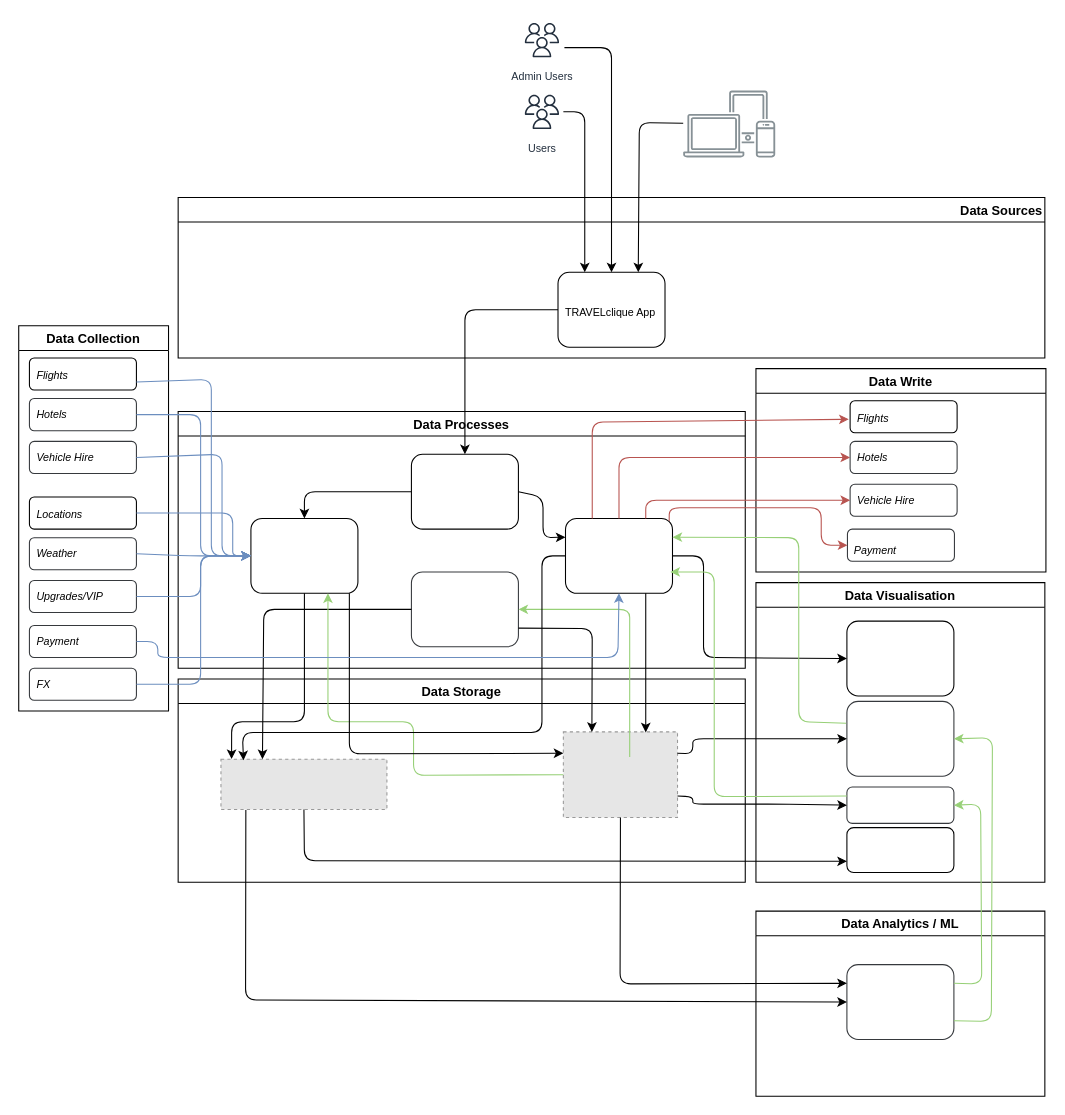
Image size: 1065x1115. Some labels were removed from this diagram. Grey dashed boxes stand in for pictures. The centre of each missing label's shape, as x and y in pixels:
"Aggregation ETL (AKS/Node.js/AF)" goes at point 304,555.
"Availability ETL (AKS/Node.js/AF)" goes at point 464,609.
"History Dashboards" goes at point 900,850.
"Message Queue (azure queue storage)" goes at point 464,491.
"Offers & Trends" goes at point 900,804.
"Predictions & Forecasts Machine Learning (Azure MLaaS)" goes at point 900,1002.
"Promotions & Availability" goes at point 900,738.
"Service ETL (AKS/Node.js/AF)" goes at point 618,555.
"Third-Party Apps" goes at point 729,123.
"Usage Reports" goes at point 900,658.
